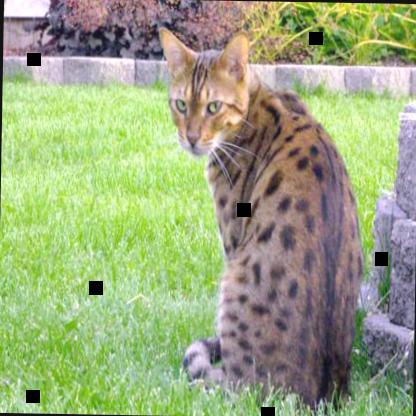cat: (152, 25, 368, 412)
